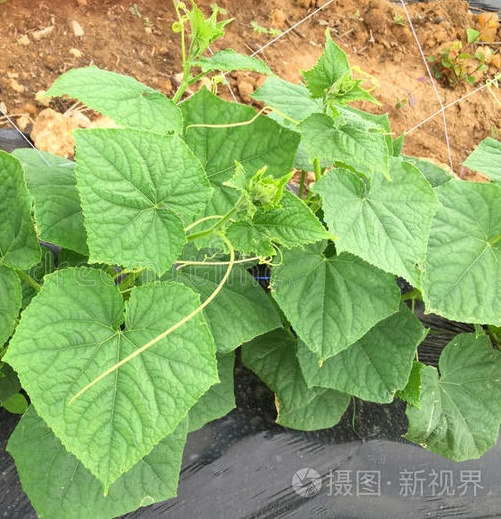cucumber_plant: (88, 78, 407, 256), (12, 255, 222, 514)
